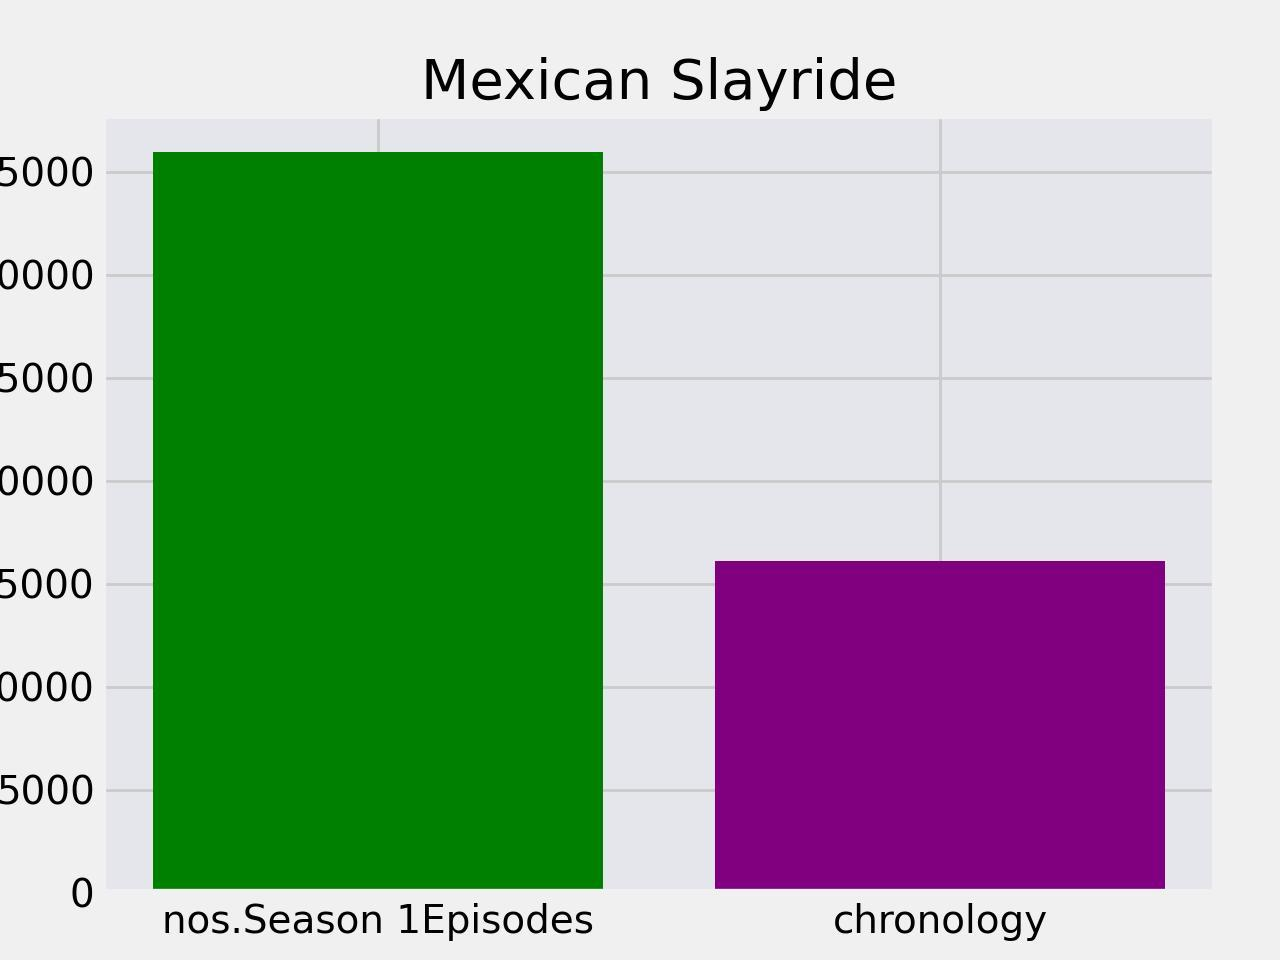axis: (0, 157, 95, 916)
rectangle: (153, 152, 603, 893), (716, 561, 1165, 893)
